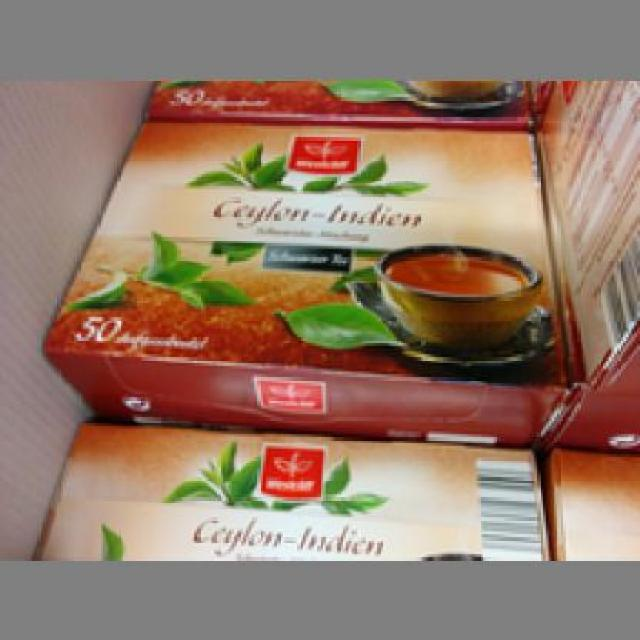Tea: (36, 117, 572, 450)
